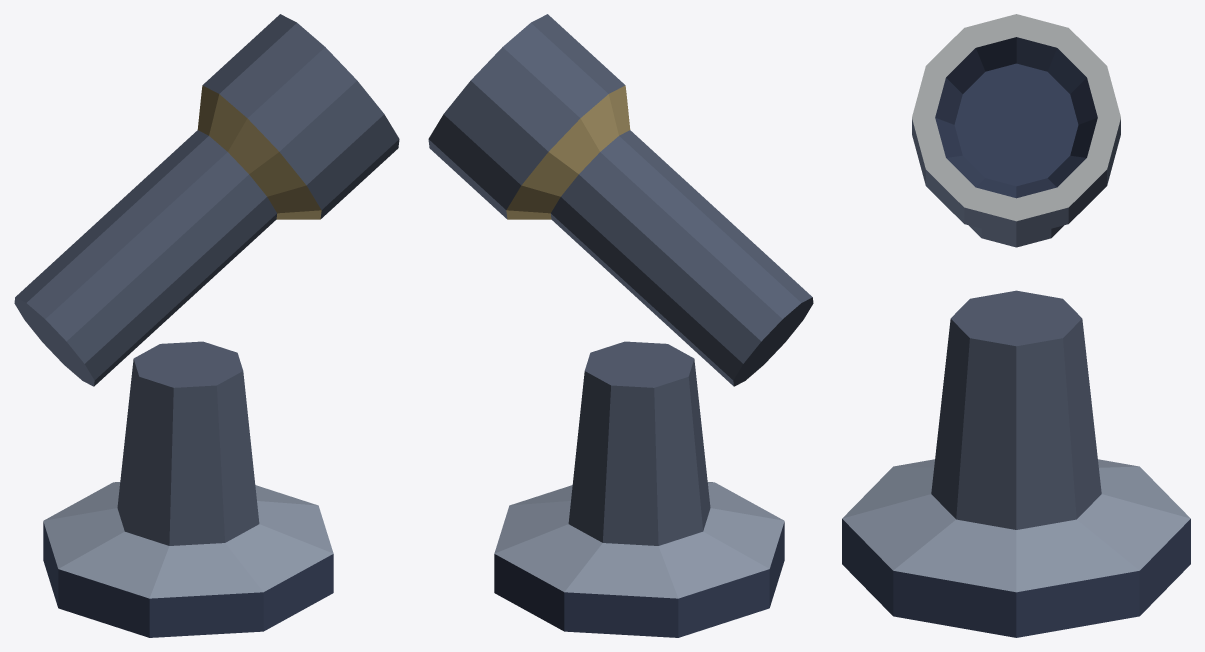
Rendered from telescope.glb.
3 views of the same model, side by side, from view 1: azimuth 30°, elevation 25°; view 2: azimuth 150°, elevation 25°; view 3: azimuth 270°, elevation 25° (orthographic). The views are drawn at different scales.
Visible parts, largest first — view 1: telescope__body; view 2: telescope__body; view 3: telescope__body.
Part boxes in pixels (x1,y1,x2,y2): telescope__body: (14, 14, 399, 637); telescope__body: (428, 14, 813, 637); telescope__body: (842, 14, 1190, 637).
Bounding box in the file's own units: 1.23 × 1.74 × 0.9.
